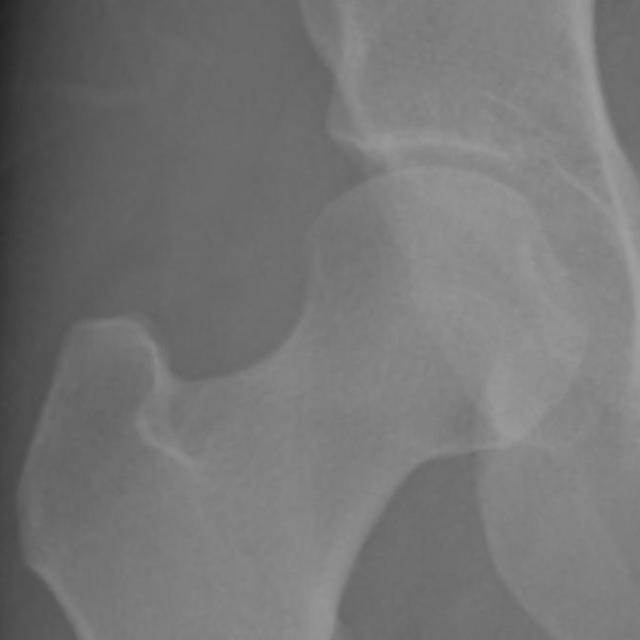Fitted_femural_head: (298, 172, 432, 298)
